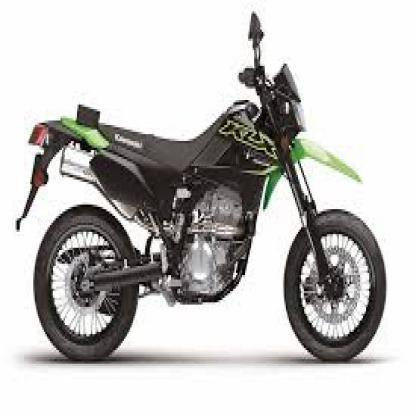Motorcycle: (20, 5, 390, 367)
